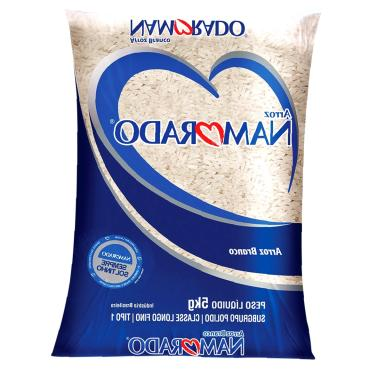rice package: (53, 12, 319, 358)
